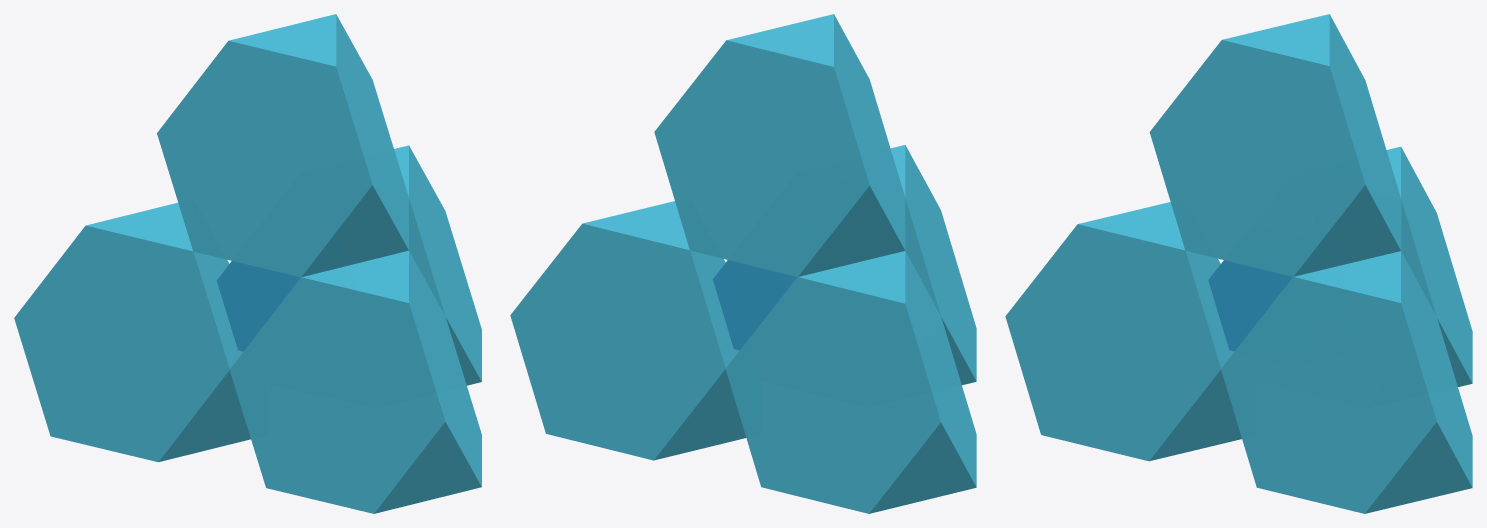
Rendered from fractaltruncatedtetrahedron1.glb.
3 renders of one model, left to right at view 1: azimuth 30°, elevation 25°; view 2: azimuth 150°, elevation 25°; view 3: azimuth 270°, elevation 25°, orthographic.
Size of the model in its own units: 9.08 by 7.44 by 8.51.
